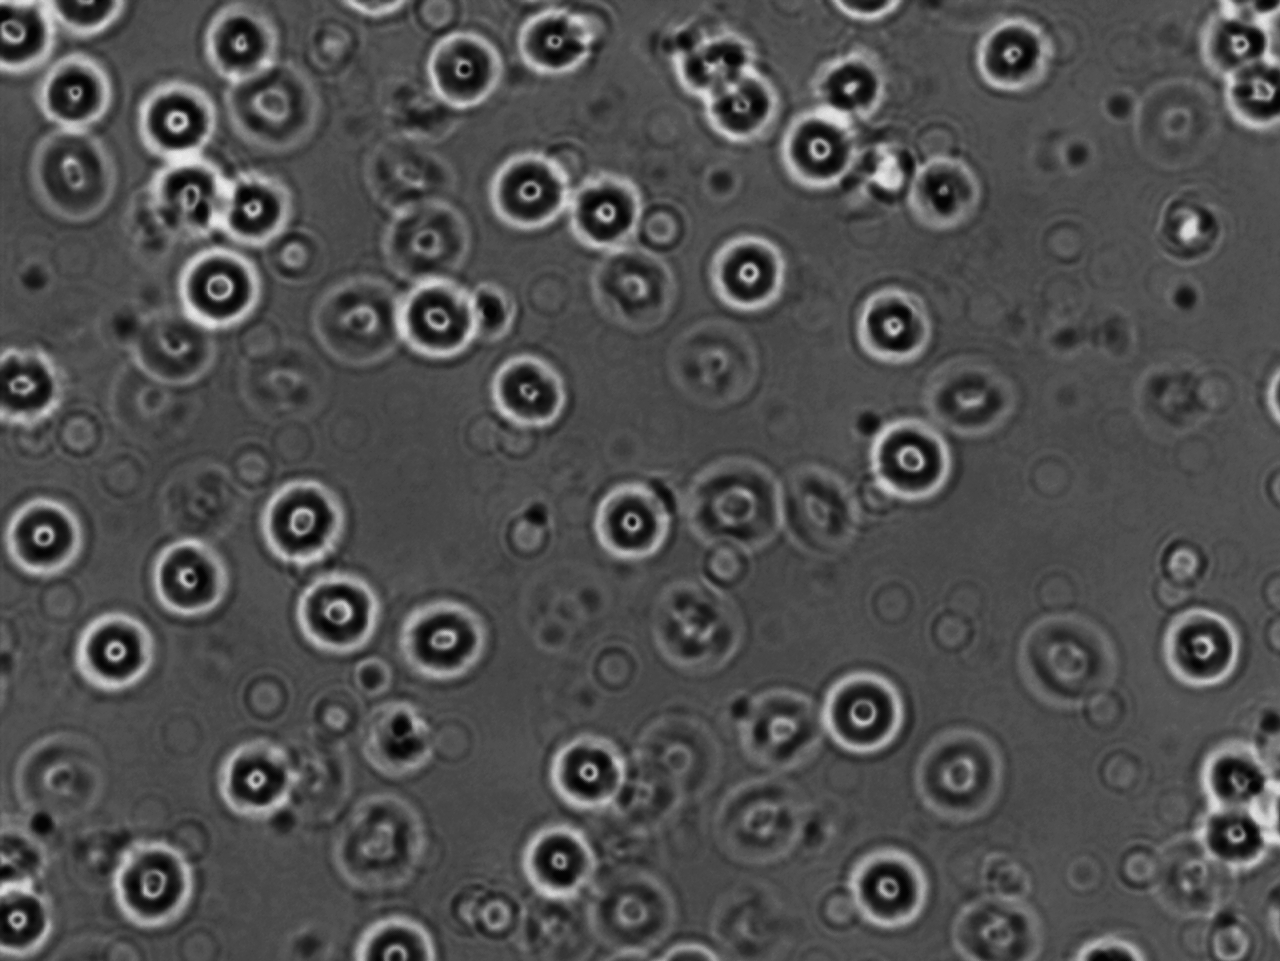depth:-8: (1008, 611, 1132, 733), (99, 833, 222, 946), (1151, 595, 1259, 713), (638, 573, 755, 675), (812, 657, 919, 766), (715, 678, 832, 777), (286, 559, 392, 668), (163, 247, 273, 351), (840, 829, 943, 940), (482, 343, 581, 455), (912, 711, 1011, 821), (206, 727, 311, 830), (860, 406, 957, 516), (578, 477, 681, 580), (679, 458, 782, 561), (694, 228, 805, 323), (391, 592, 492, 695), (138, 533, 246, 628), (260, 470, 355, 578), (847, 275, 947, 376), (382, 273, 482, 373), (65, 602, 163, 705), (537, 717, 630, 825), (772, 455, 864, 564), (898, 141, 997, 239), (517, 812, 613, 913), (218, 165, 312, 265), (583, 239, 679, 337), (970, 10, 1065, 108), (2, 486, 101, 579), (308, 278, 408, 369), (484, 144, 578, 239), (36, 129, 128, 227), (769, 103, 861, 200), (694, 59, 789, 149), (563, 163, 653, 257), (416, 25, 506, 119), (30, 55, 118, 149), (146, 161, 235, 251), (1196, 3, 1278, 98), (372, 206, 478, 278), (803, 46, 896, 127), (131, 77, 217, 165)
